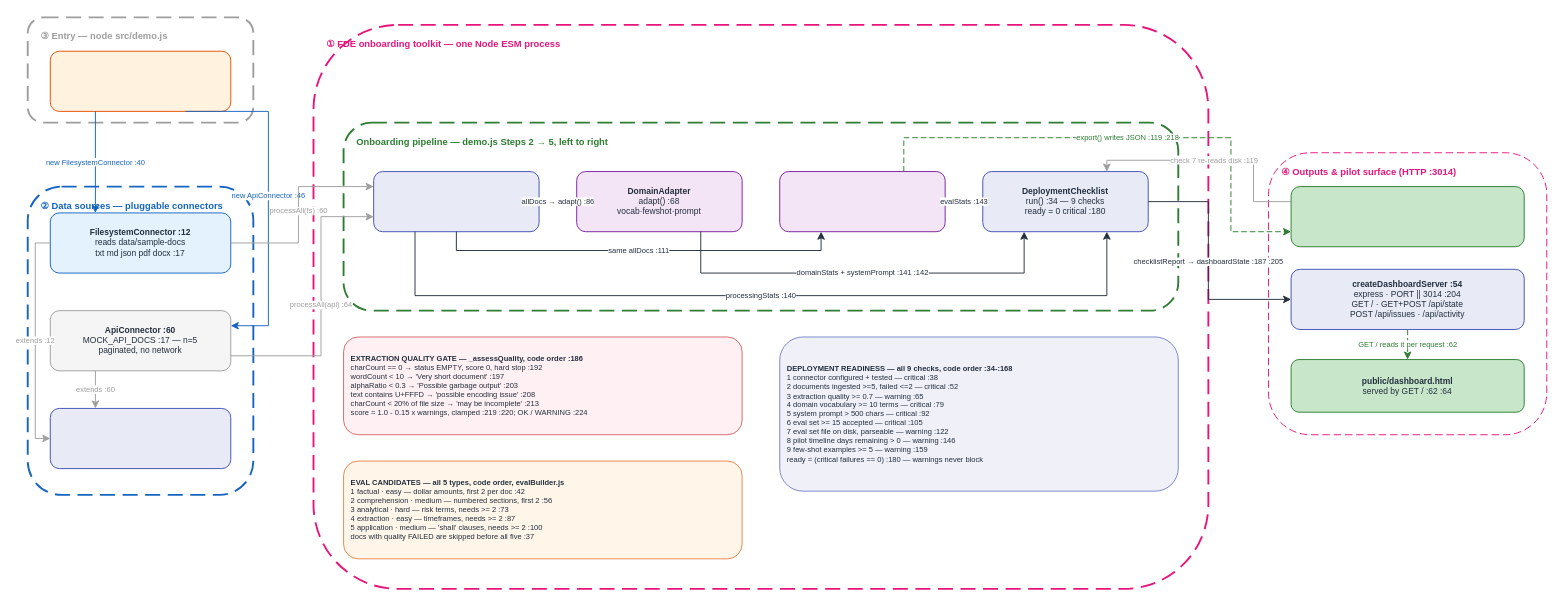
Some shapes in this 1563 by 605 pixel diagram are drawn without their labels. Each missing label, with the centre of its shape:
BaseConnector :8 4-method contract healthCheck default :44: point 140,438
data/eval-set.json written by export() :218 re-read by check 7 :119: point 1407,216
demo.js 6-step pipeline run() :30: point 140,80
DocumentProcessor processAll() :88 extract + score quality: point 456,201
EvalBuilder generateCandidates :32 acceptAll :186 export() :195: point 862,201
